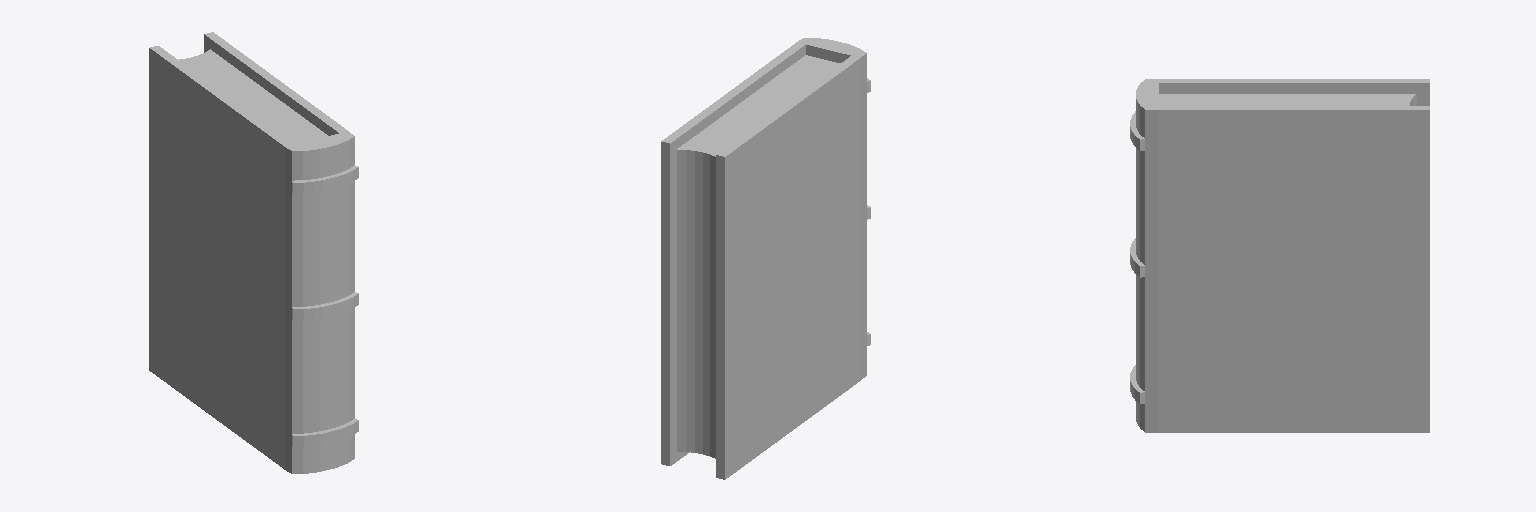
File: singlebook_fixed.obj
3 renders of one model, left to right at view 1: azimuth 30°, elevation 25°; view 2: azimuth 150°, elevation 25°; view 3: azimuth 270°, elevation 25°, orthographic.
Parts seen in each view (by area): view 1: singlebook_fixed; view 2: singlebook_fixed; view 3: singlebook_fixed.
Boxes of the visible parts, x1=… form: singlebook_fixed: x1=149, y1=32, x2=358, y2=473; singlebook_fixed: x1=661, y1=38, x2=870, y2=479; singlebook_fixed: x1=1130, y1=79, x2=1429, y2=432.
Bounding box in the file's own units: 0.2174 × 1.02 × 0.8562.